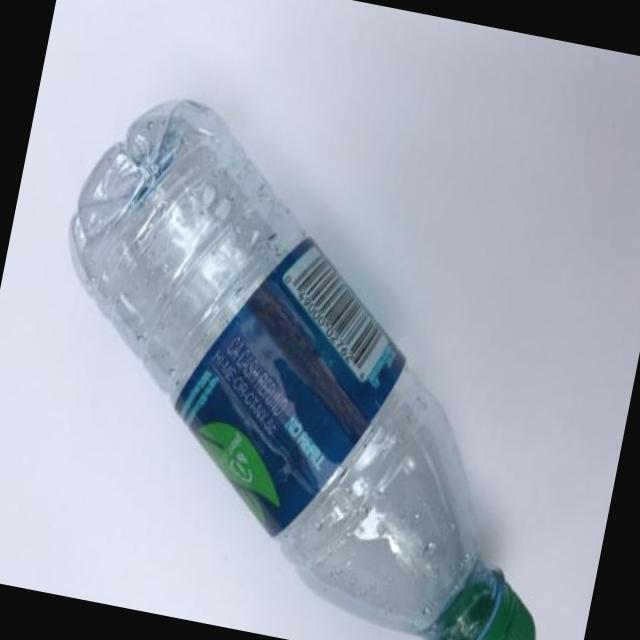Recycle: (1, 79, 625, 640)
